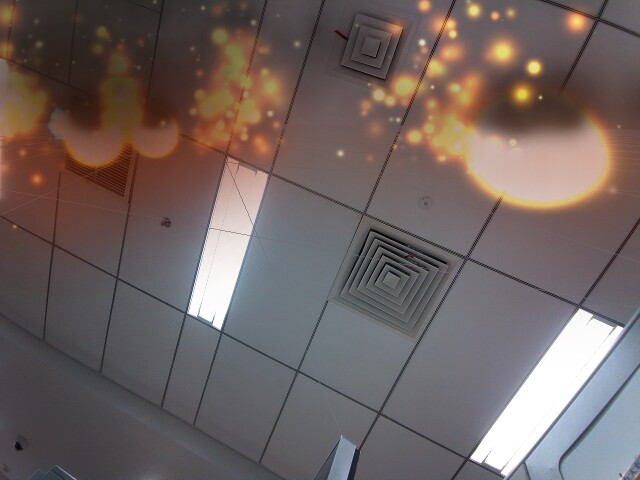fire: (460, 78, 612, 212), (59, 103, 124, 168), (132, 106, 183, 162)
